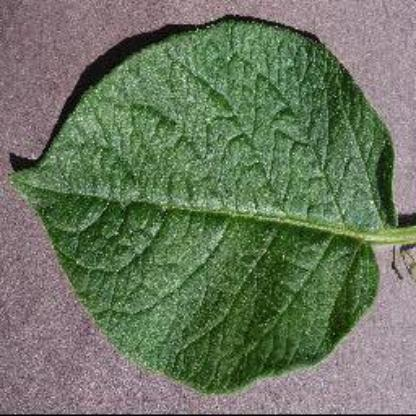Healthy-plant: (32, 12, 400, 387)
